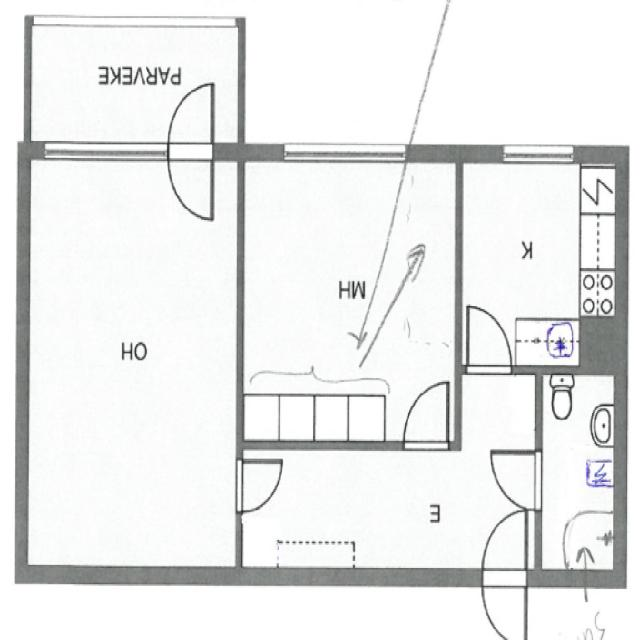door: (481, 507, 526, 584), (168, 146, 213, 222), (168, 86, 213, 162), (481, 567, 526, 640), (466, 304, 512, 374), (489, 451, 541, 512), (404, 381, 448, 448), (236, 458, 283, 511)
